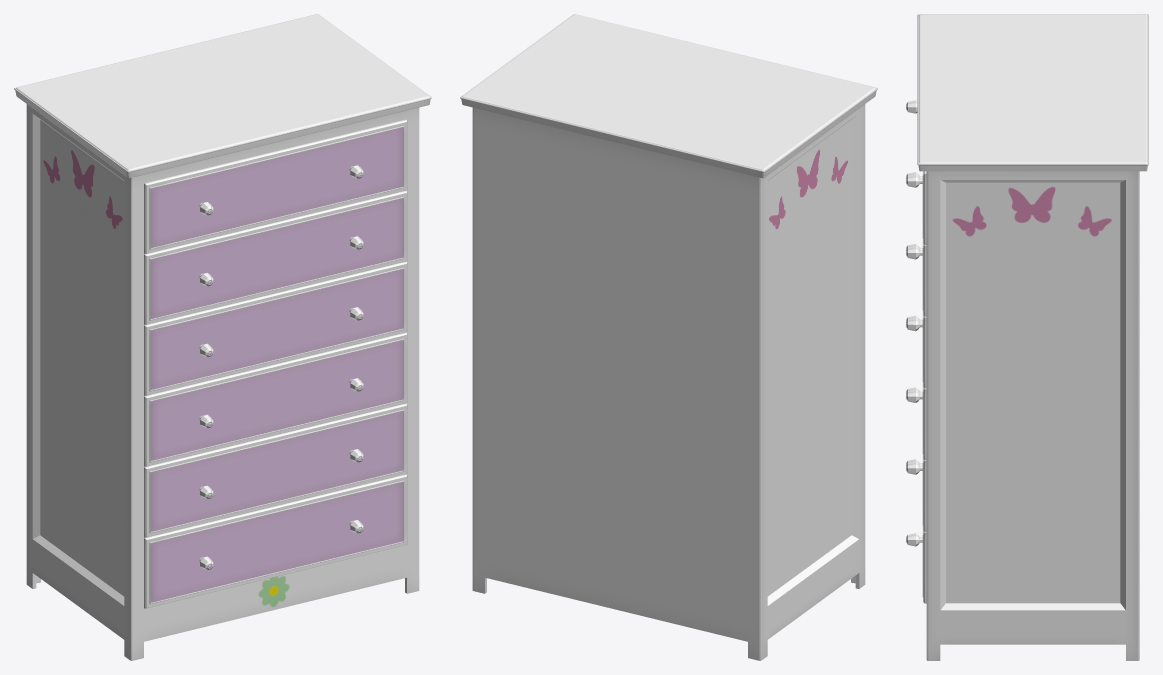
The model's file is Bedroom_Small_Dresser.FBX.
3 views of the same model, side by side, from view 1: azimuth 30°, elevation 25°; view 2: azimuth 150°, elevation 25°; view 3: azimuth 270°, elevation 25° (orthographic).
Parts seen in each view (by area): view 1: Bedroom_Small_Dresser, Bedroom_Small_Dresser_Drawer003, Bedroom_Small_Dresser_Drawer, Bedroom_Small_Dresser_Drawer005, Bedroom_Small_Dresser_Drawer001, Bedroom_Small_Dresser_Drawer002, Bedroom_Small_Dresser_Drawer004; view 2: Bedroom_Small_Dresser; view 3: Bedroom_Small_Dresser, Bedroom_Small_Dresser_Drawer, Bedroom_Small_Dresser_Drawer003, Bedroom_Small_Dresser_Drawer002, Bedroom_Small_Dresser_Drawer001, Bedroom_Small_Dresser_Drawer004, Bedroom_Small_Dresser_Drawer005.
Part boxes in pixels (box(x1,y1,x2,y2)): Bedroom_Small_Dresser: box(14, 14, 431, 660); Bedroom_Small_Dresser_Drawer003: box(144, 332, 407, 466); Bedroom_Small_Dresser_Drawer: box(144, 119, 407, 253); Bedroom_Small_Dresser_Drawer005: box(144, 474, 407, 608); Bedroom_Small_Dresser_Drawer001: box(144, 190, 407, 324); Bedroom_Small_Dresser_Drawer002: box(144, 261, 407, 395); Bedroom_Small_Dresser_Drawer004: box(144, 403, 407, 537); Bedroom_Small_Dresser: box(460, 14, 877, 660); Bedroom_Small_Dresser: box(917, 14, 1148, 660); Bedroom_Small_Dresser_Drawer: box(906, 100, 926, 244); Bedroom_Small_Dresser_Drawer003: box(906, 315, 926, 460); Bedroom_Small_Dresser_Drawer002: box(906, 243, 926, 388); Bedroom_Small_Dresser_Drawer001: box(906, 172, 926, 316); Bedroom_Small_Dresser_Drawer004: box(906, 387, 926, 531); Bedroom_Small_Dresser_Drawer005: box(906, 459, 926, 603).
Size of the model in its own units: 83.6 by 130 by 57.03.
2 materials, 2 textured.
